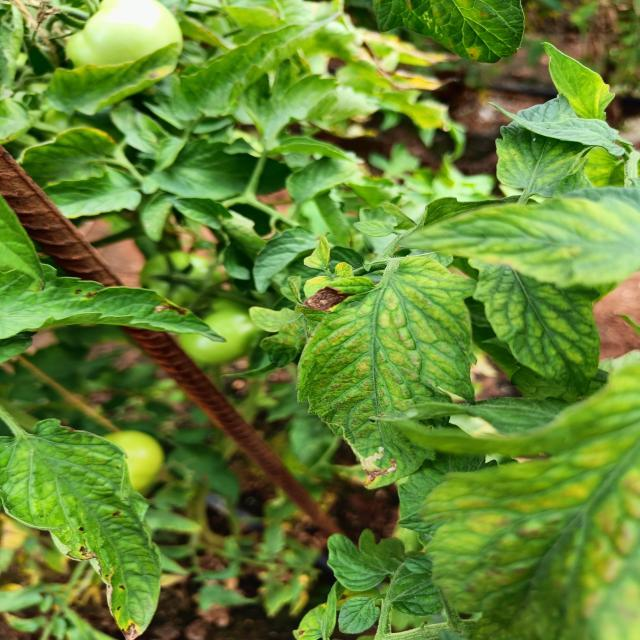Tomato mosaic virus leaf: (1, 418, 163, 640), (279, 261, 379, 344)
